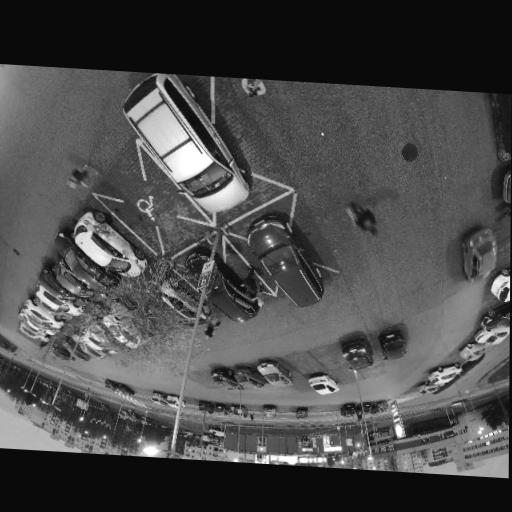busy: (128, 77, 257, 215), (243, 215, 335, 307), (69, 211, 159, 283), (199, 250, 264, 320), (150, 275, 203, 325), (44, 262, 104, 302), (107, 301, 158, 347), (459, 228, 498, 283), (36, 280, 95, 312), (340, 336, 380, 373), (34, 291, 83, 319), (375, 328, 410, 364), (84, 326, 124, 355), (257, 358, 295, 385), (481, 303, 509, 338), (22, 306, 59, 329), (306, 373, 342, 396), (232, 366, 265, 389), (65, 339, 98, 362), (476, 325, 509, 347), (430, 363, 463, 384), (210, 369, 241, 389), (459, 342, 490, 361), (111, 382, 136, 396), (149, 392, 171, 406), (165, 393, 185, 407), (340, 403, 358, 417), (197, 400, 216, 413), (213, 403, 232, 415), (231, 404, 248, 417), (263, 404, 278, 417), (295, 407, 311, 419)
free: (138, 195, 190, 235), (318, 349, 341, 364), (292, 358, 316, 370), (335, 370, 354, 381)
